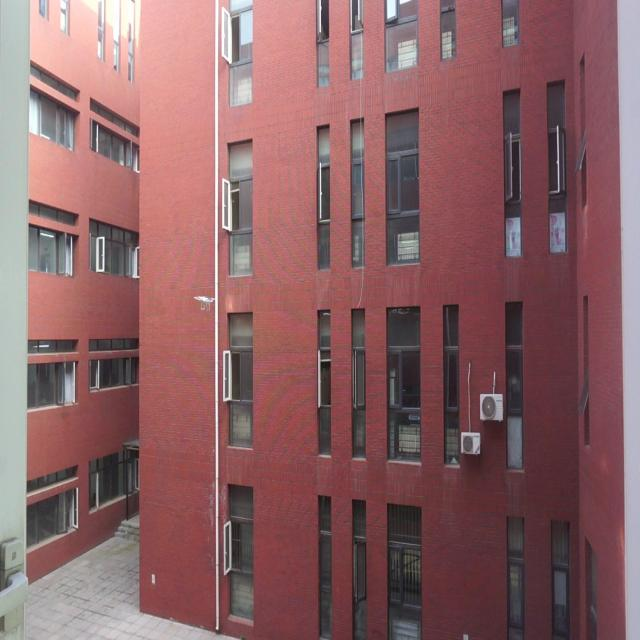drone: (192, 291, 218, 313)
